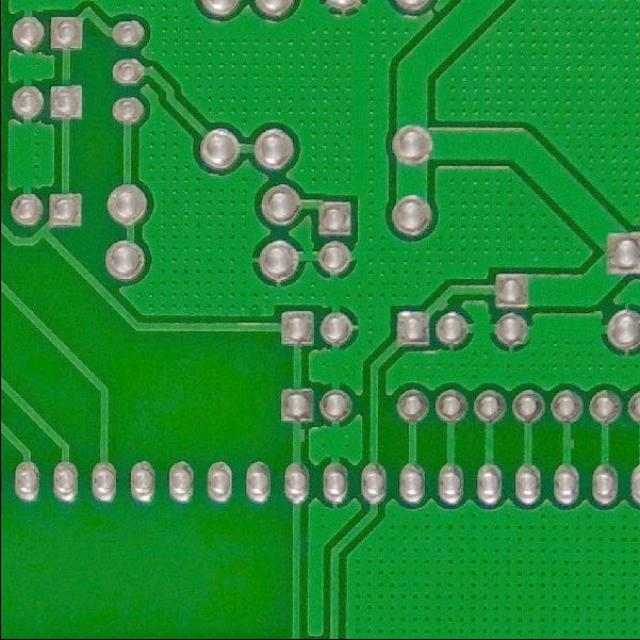Spur: (286, 422, 309, 446), (558, 432, 578, 454)
